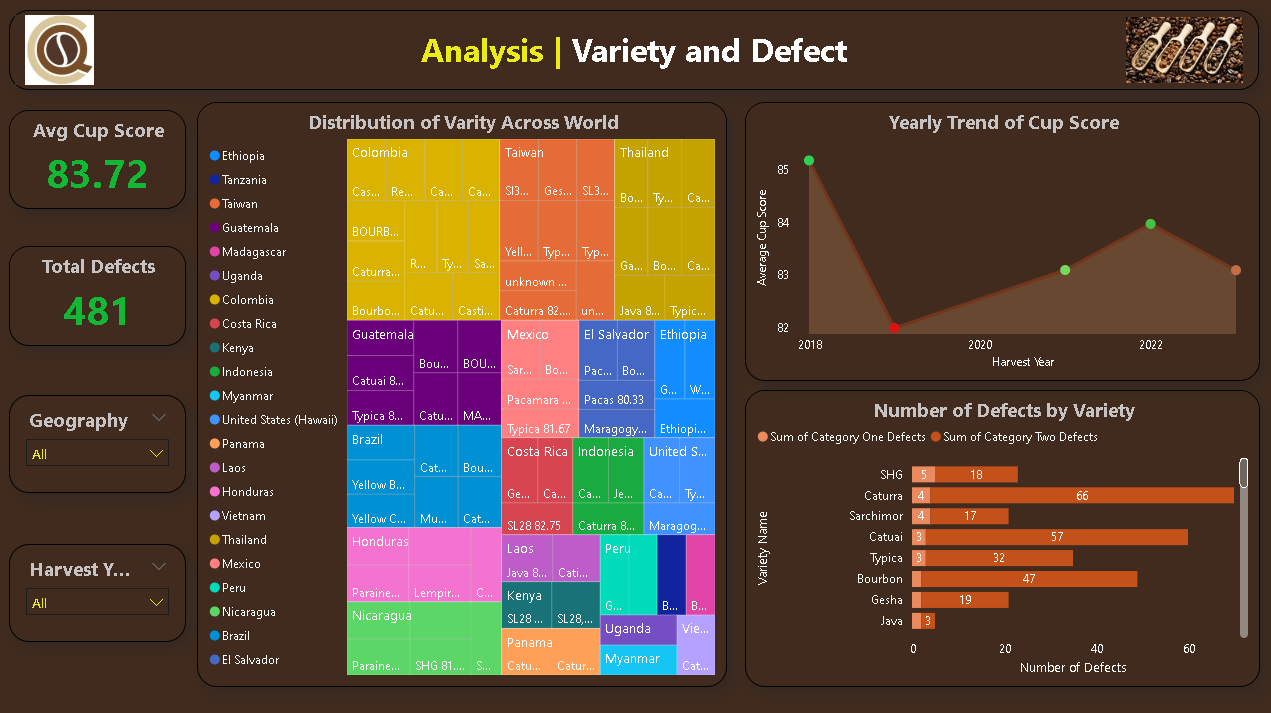

The dashboard page shown, as its layout file describes it:
{"tool":"powerbi","page":{"name":"Variety and Defect","canvas":[1280,720],"ordinal":3},"visuals":[{"type":"treemap","title":"Distribution of Varity Across World ","fields":{"Group":["Dim Region.Country of Origin"],"Values":["df_arabica_clean.Avg Cup Score"],"Details":["Dim Variety.Variety"]},"box":[201.6,105.3,530.2,585.1],"z":0},{"type":"textbox","box":[14.4,12.6,1250.2,80.3],"z":1000,"group":"g1"},{"type":"barChart","title":"Number of Defects by Variety","fields":{"Category":["Dim Variety.Variety"],"Y":["Sum(df_arabica_clean.Category One Defects)","Sum(df_arabica_clean.Category Two Defects)"]},"box":[749.8,393.4,514.9,297],"z":1000},{"type":"image","box":[1131.5,18,117,69.3],"z":2000,"group":"g1"},{"type":"card","title":"Avg Cup Score","fields":{"Values":["df_arabica_clean.Avg Cup Score"]},"box":[14.4,112.5,176.4,99.4],"z":2000},{"type":"group","id":"g1","title":"Group 1","box":[14.4,12.6,1250.2,80.3],"z":3000},{"type":"image","box":[20.7,18,89.1,69.3],"z":3000,"group":"g1"},{"type":"slicer","title":"Geography","fields":{"Values":["df_arabica_clean.Harvest Year"]},"box":[14.4,547.3,176.4,98.1],"z":4000},{"type":"areaChart","title":"Yearly Trend of Cup Score","fields":{"Category":["df_arabica_clean.Harvest Year"],"Y":["df_arabica_clean.Avg Cup Score"]},"box":[749.8,105.3,514.9,279],"z":5000},{"type":"card","title":"Total Defects","fields":{"Values":["df_arabica_clean.Number Defects"]},"box":[14.4,249.3,176.4,99.9],"z":6000},{"type":"slicer","title":"Geography","fields":{"Values":["Dim Region.Geography Hierachy.Country of Origin","Dim Region.Geography Hierachy.Region","Dim Region.Geography Hierachy.AvgAltitude"]},"box":[14.4,397.9,176.4,98.1],"z":7000}]}

Visuals, with their boxes in screenshot pixels (x1, y1, x2, y2), scaled from the page's 1280x720 canvas onto the 1271x713 screenshot:
"Distribution of Varity Across World " treemap: BBox(200, 104, 727, 684)
textbox: BBox(14, 12, 1256, 92)
"Number of Defects by Variety" barChart: BBox(745, 390, 1256, 684)
image: BBox(1124, 18, 1240, 86)
"Avg Cup Score" card: BBox(14, 111, 189, 210)
"Group 1" group: BBox(14, 12, 1256, 92)
image: BBox(21, 18, 109, 86)
"Geography" slicer: BBox(14, 542, 189, 639)
"Yearly Trend of Cup Score" areaChart: BBox(745, 104, 1256, 381)
"Total Defects" card: BBox(14, 247, 189, 346)
"Geography" slicer: BBox(14, 394, 189, 491)
